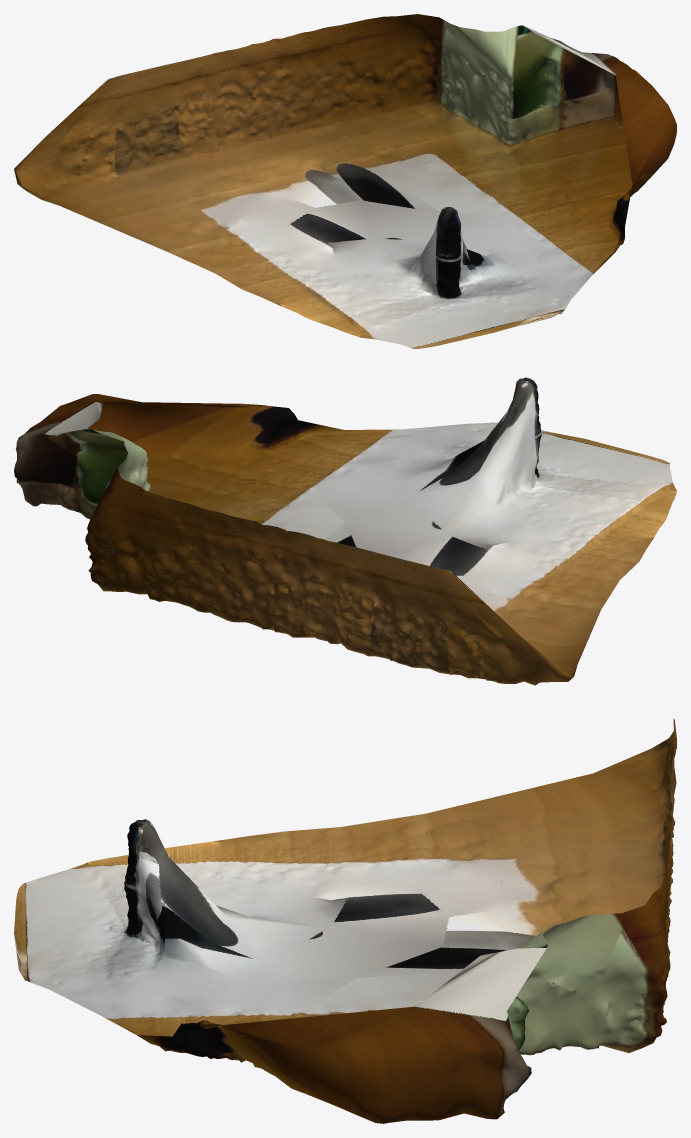
File: baked_mesh.obj
3 views of the same model, one above another, from view 1: azimuth 30°, elevation 25°; view 2: azimuth 150°, elevation 25°; view 3: azimuth 270°, elevation 25° (orthographic). The views are drawn at different scales.
Visible parts, largest first — view 1: g0; view 2: g0; view 3: g0.
Boxes of the visible parts, x1,y1,x2,y2 form: g0: (14,14,676,348); g0: (14,377,676,685); g0: (14,718,676,1123).
Bounding box in the file's own units: 1.87 × 0.3459 × 1.5.
Materials: 1 (1 with a texture image).
